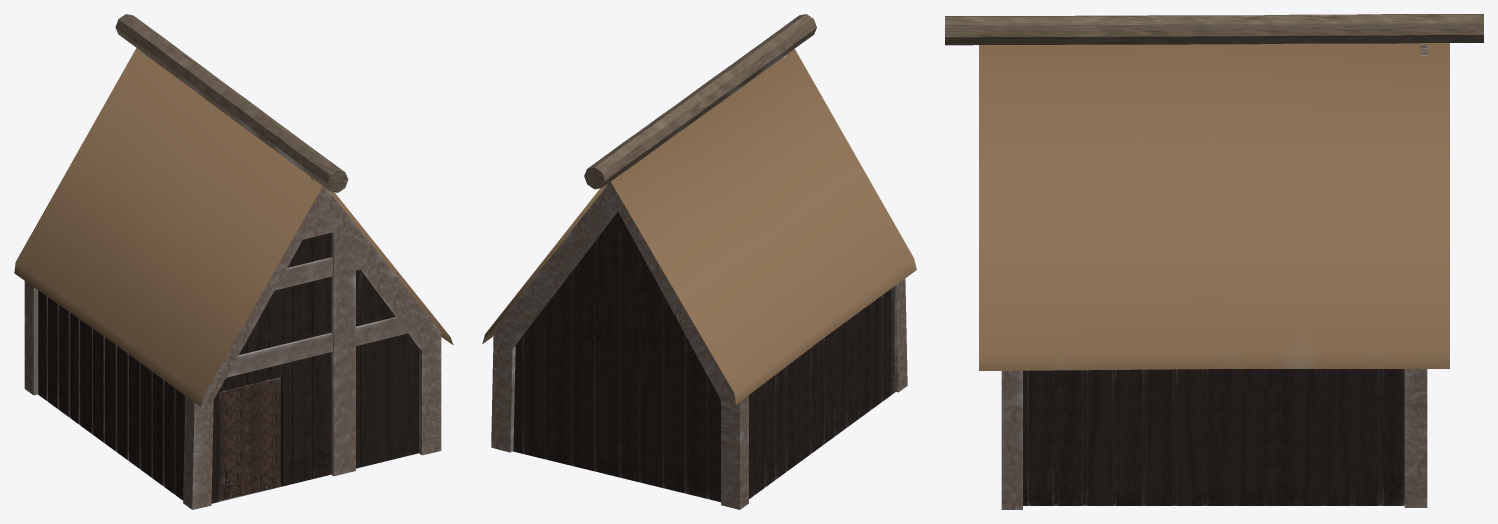
The model's file is cabana.glb.
3 views of the same model, side by side, from view 1: azimuth 30°, elevation 25°; view 2: azimuth 150°, elevation 25°; view 3: azimuth 270°, elevation 25° (orthographic). The views are drawn at different scales.
Visible parts, largest first — view 1: Object_5, Object_4, Object_2, Object_7, Object_6, Object_3; view 2: Object_5, Object_4, Object_3, Object_7, Object_2; view 3: Object_5, Object_4, Object_7, Object_3, Object_2.
Part boxes in pixels (x1=…): Object_5: x1=14, y1=48, x2=453, y2=406; Object_4: x1=38, y1=233, x2=418, y2=503; Object_2: x1=183, y1=177, x2=441, y2=509; Object_7: x1=115, y1=14, x2=348, y2=192; Object_6: x1=219, y1=377, x2=280, y2=500; Object_3: x1=24, y1=281, x2=38, y2=395; Object_5: x1=482, y1=49, x2=916, y2=404; Object_4: x1=512, y1=212, x2=895, y2=502; Object_3: x1=491, y1=182, x2=748, y2=509; Object_7: x1=584, y1=14, x2=816, y2=189; Object_2: x1=783, y1=55, x2=907, y2=392; Object_5: x1=979, y1=43, x2=1449, y2=370; Object_4: x1=1023, y1=369, x2=1404, y2=505; Object_7: x1=945, y1=14, x2=1483, y2=45; Object_3: x1=1404, y1=44, x2=1427, y2=507; Object_2: x1=1001, y1=370, x2=1022, y2=509.
Bounding box in the file's own units: 4.47 × 5.5 × 6.43.
Materials: 6 (6 with a texture image).
